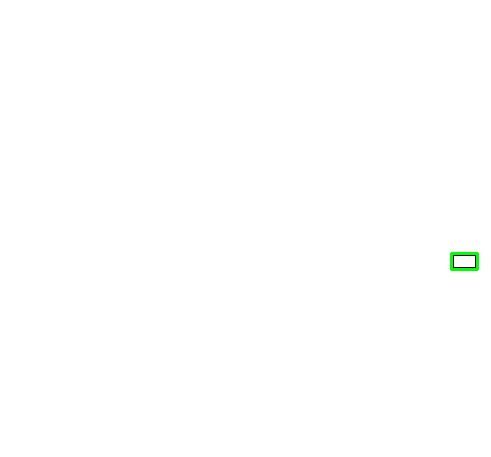line_segment: (450, 252, 479, 271)
